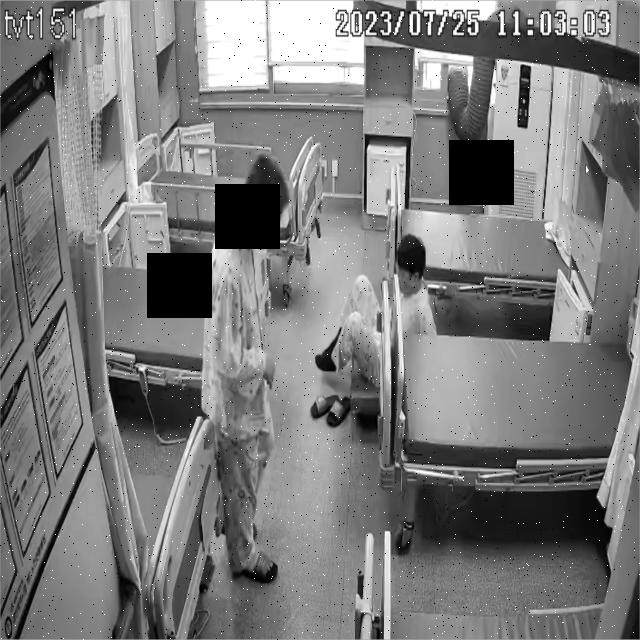bed: (377, 274, 629, 498), (387, 154, 573, 310), (107, 227, 270, 393), (152, 142, 320, 257)
fall: (316, 237, 436, 391)
patient: (201, 146, 291, 580), (316, 236, 438, 390)
